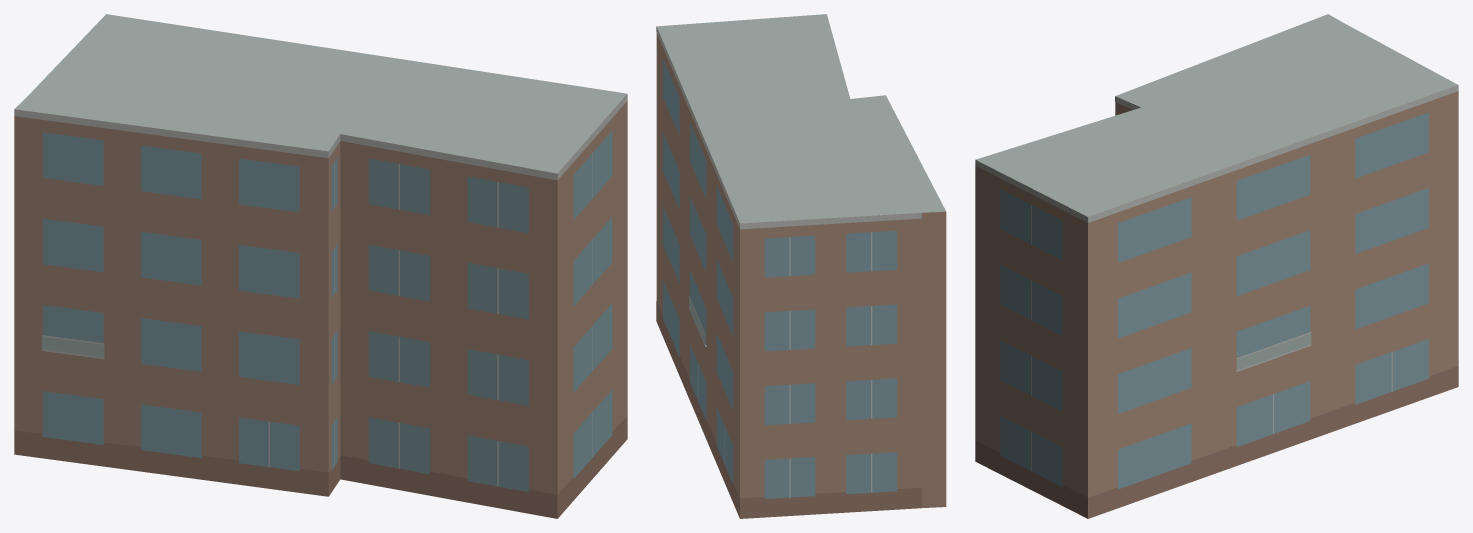
File: survey-upis-33021423.glb
The picture shows the model from 3 angles, left to right: view 1: azimuth 30°, elevation 25°; view 2: azimuth 150°, elevation 25°; view 3: azimuth 270°, elevation 25°; orthographic projection. The views are drawn at different scales.
Parts seen in each view (by area): view 1: survey-upis-33021423.tmp; view 2: survey-upis-33021423.tmp; view 3: survey-upis-33021423.tmp.
Boxes of the visible parts, x1,y1,x2,y2 form: survey-upis-33021423.tmp: (14,14,627,518); survey-upis-33021423.tmp: (656,14,946,518); survey-upis-33021423.tmp: (975,14,1458,518).
Size of the model in its own units: 17.9 by 12.4 by 18.
